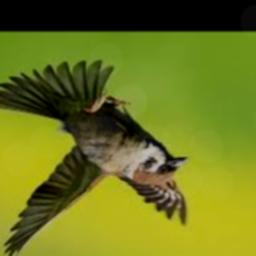Sparrow: (0, 60, 188, 256)
